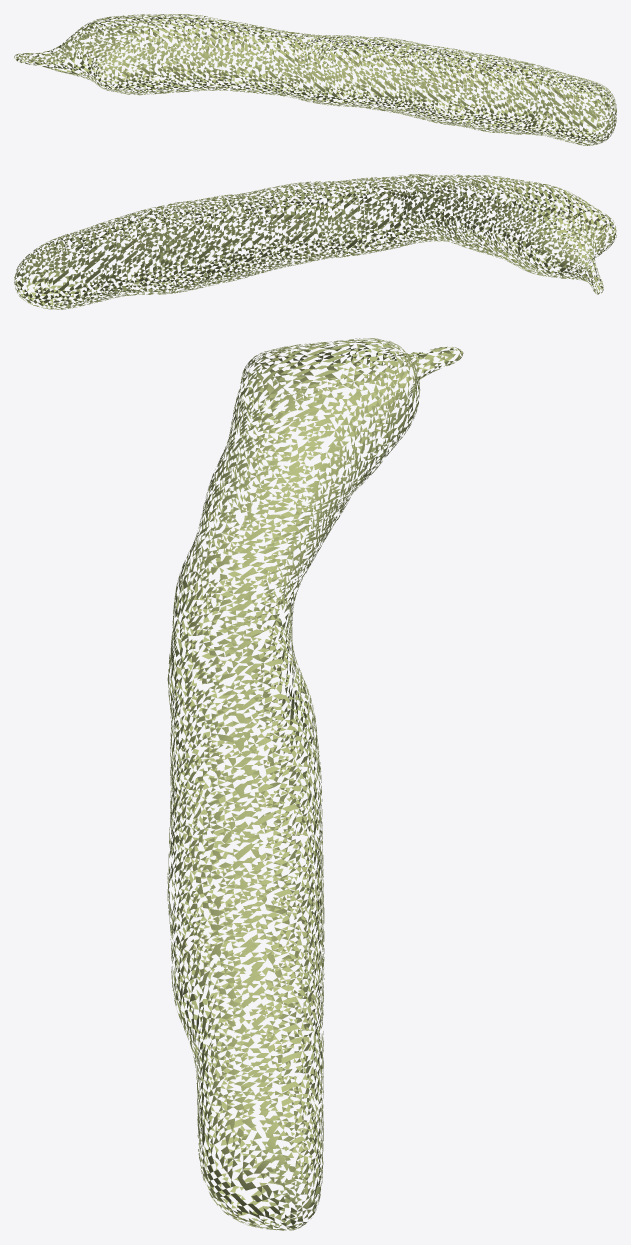
The model's file is morph_010.glb.
3 renders of one model, top to bottom at view 1: azimuth 30°, elevation 25°; view 2: azimuth 150°, elevation 25°; view 3: azimuth 270°, elevation 25°, orthographic. The views are drawn at different scales.
Bounding box in the file's own units: 119 × 44.41 × 27.21.
